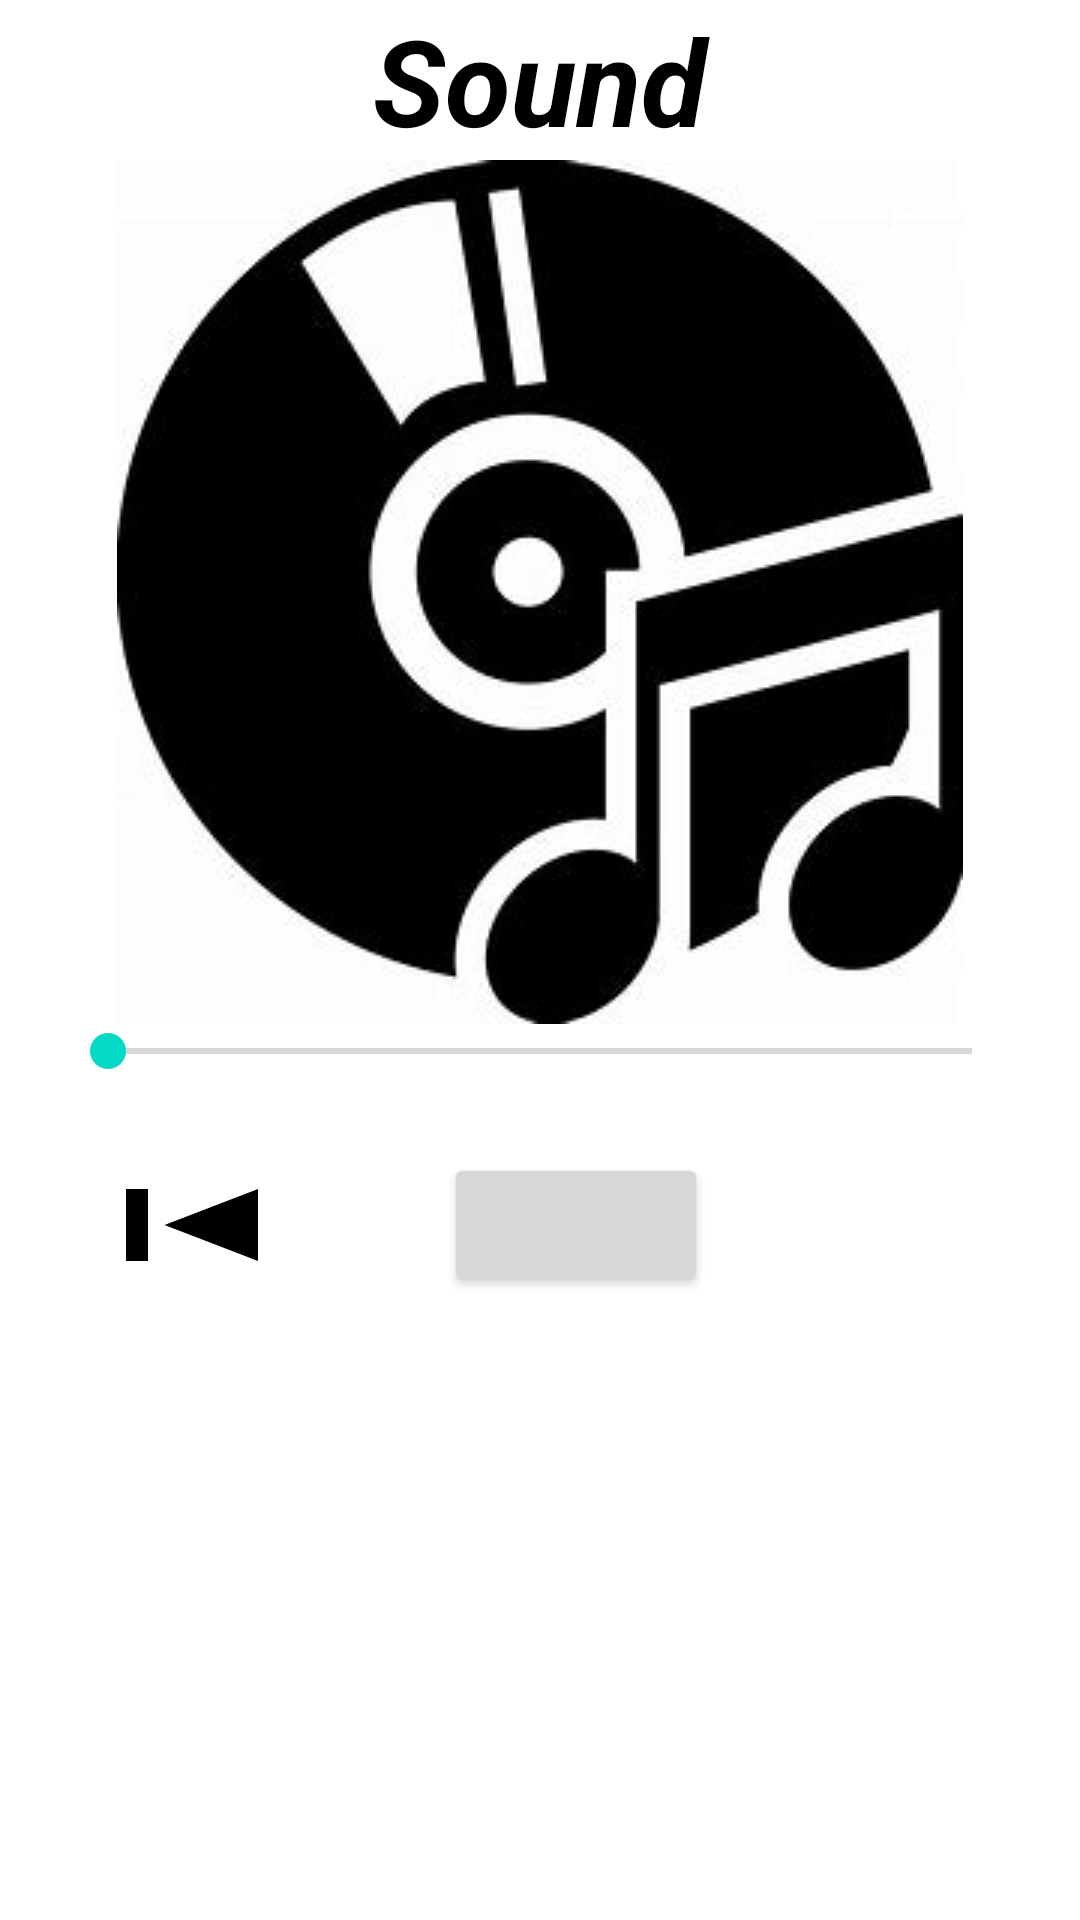

Screen size 1080x1920. Icon name, then its box in pixels as (x1, y1, x2, y2):
skip previous: (126, 1189, 258, 1261)
